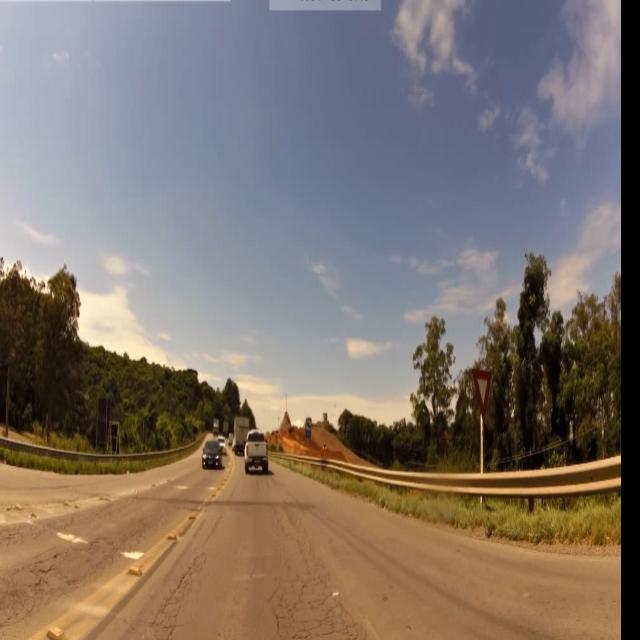R-2: (472, 367, 492, 421)
